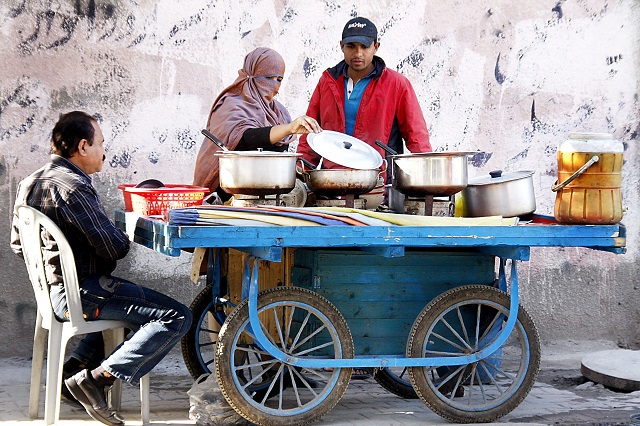cart: (115, 180, 631, 426)
person: (14, 111, 193, 417), (297, 17, 433, 176), (193, 47, 312, 194)
